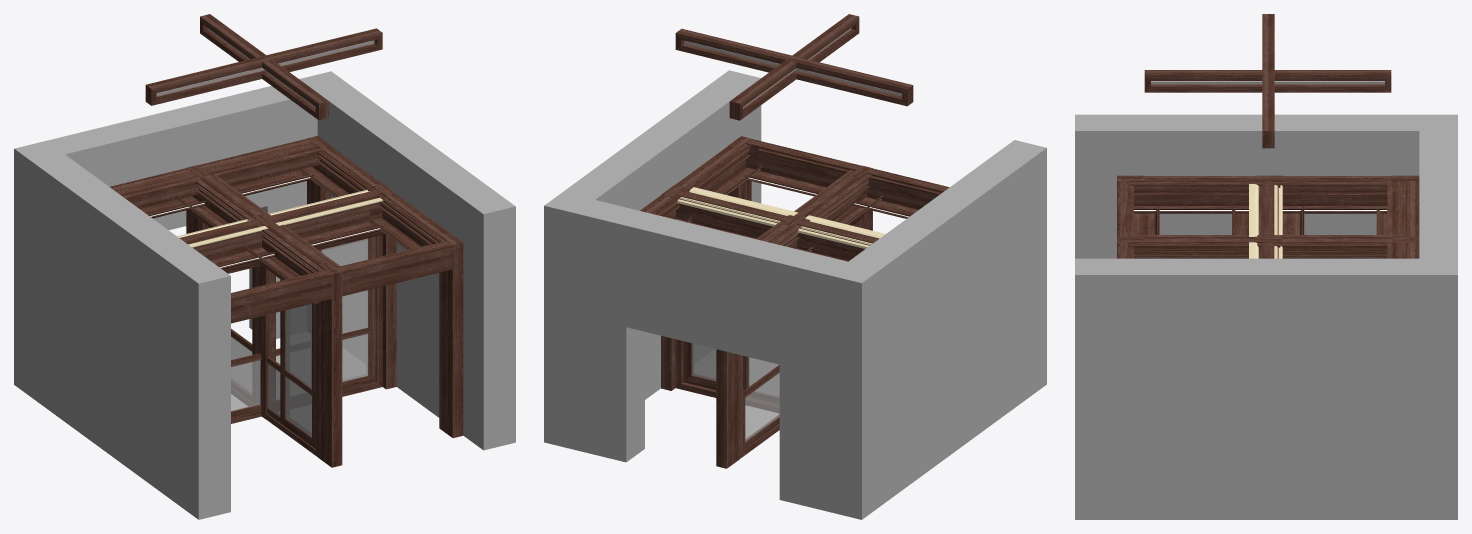
File: PiOasis.glb
3 views of the same model, side by side, from view 1: azimuth 30°, elevation 25°; view 2: azimuth 150°, elevation 25°; view 3: azimuth 270°, elevation 25° (orthographic). The views are drawn at different scales.
Visible parts, largest first — view 1: wall_L, wall_R, wall, base, beam_Y, beam_X, win_up, post-FR, sliding_doors_door_side, sliding_doors_door, sliding_glass_win, Guillotine_win (+9 smaller); view 2: wall, wall_L, wall_R, base, win_up, beam_X, beam_Y, win_up_side, post-BC, louver, Guillotine_win_side, bifold_doors_door (+4 smaller); view 3: wall_R, wall_L, wall, base, beam_Y, win_up_side, beam_X, win_up, louver.
Part boxes in pixels (x1,y1,x2,y2): wall_L: (32, 154, 230, 519); wall_R: (317, 85, 515, 450); wall: (14, 71, 349, 397); base: (110, 138, 452, 323); beam_Y: (177, 175, 342, 467); beam_X: (179, 190, 383, 269); win_up: (145, 28, 382, 105); post-FR: (439, 232, 463, 437); sliding_doors_door_side: (281, 303, 315, 441); sliding_doors_door: (319, 236, 376, 390); sliding_glass_win: (321, 236, 376, 390); Guillotine_win: (231, 327, 374, 417); wall: (544, 192, 880, 519); wall_L: (848, 140, 1046, 505); wall_R: (563, 70, 761, 399); base: (640, 139, 949, 222); win_up: (675, 28, 913, 106); beam_X: (676, 190, 879, 261); beam_Y: (756, 165, 883, 252); win_up_side: (729, 14, 859, 120); post-BC: (716, 349, 740, 468); louver: (677, 187, 885, 248); Guillotine_win_side: (743, 365, 779, 449); bifold_doors_door: (683, 341, 747, 396); wall_R: (1075, 258, 1419, 519); wall_L: (1075, 114, 1419, 258); wall: (1419, 114, 1457, 519); base: (1117, 176, 1418, 258); beam_Y: (1117, 235, 1391, 258); win_up_side: (1144, 70, 1391, 92); beam_X: (1232, 181, 1304, 258); win_up: (1262, 14, 1274, 148); louver: (1249, 184, 1282, 258).
Size of what is drawn, in the model's own units: 3 by 3.2 by 3.02.
15 materials, 10 textured.
